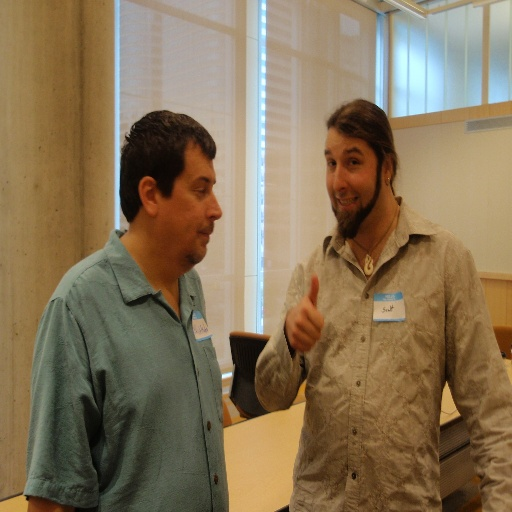hand: (287, 284, 332, 363)
